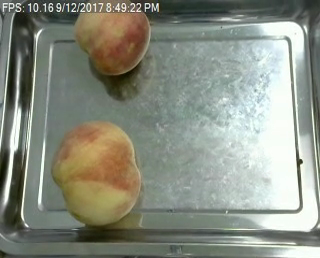Peach: (54, 119, 143, 227), (73, 0, 151, 76)
